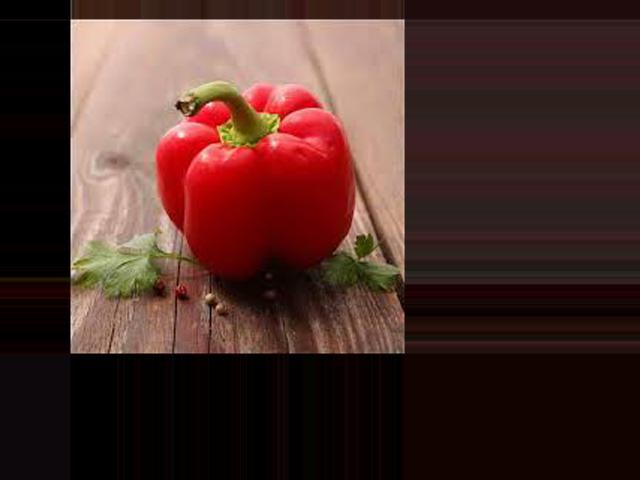bell_pepper: (144, 67, 366, 282)
